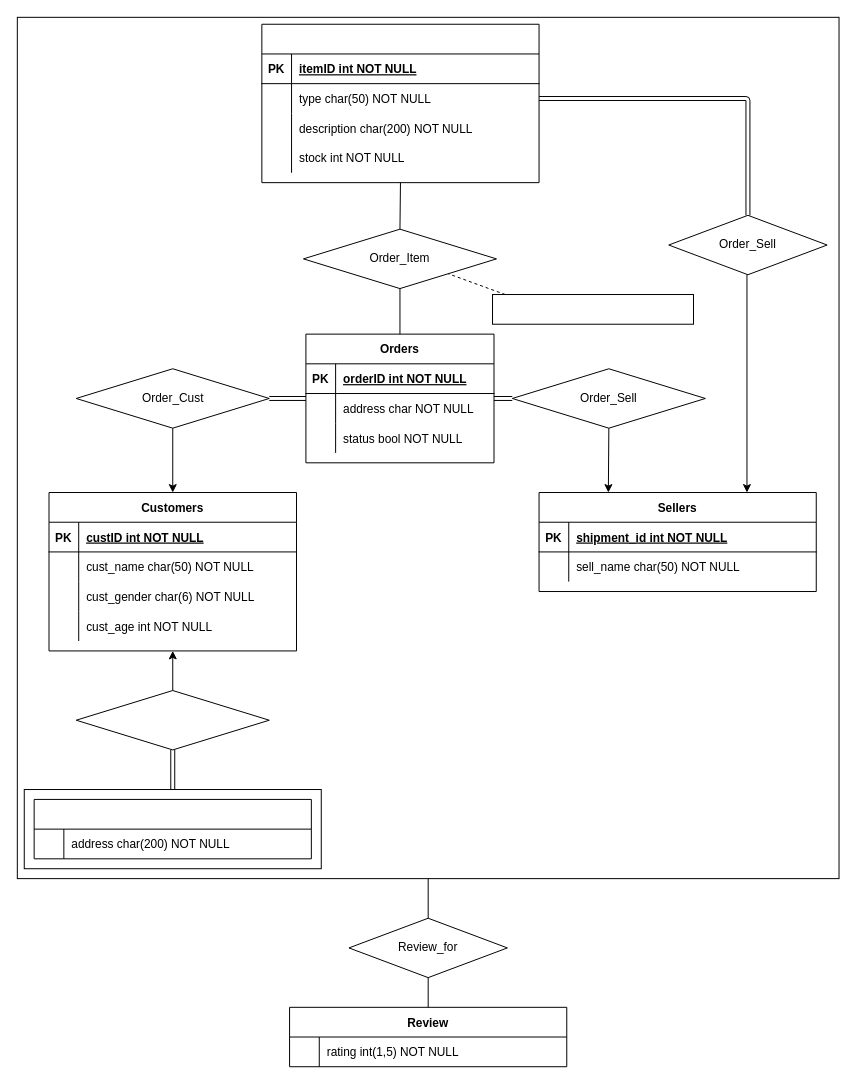
Some shapes in this 856 by 1084 pixel diagram are drawn without their labels. The box of each missing label's shape, as (x1, y1, x2, y2) in pixels:
Addresses: (33, 798, 311, 859)
Cust_Addr: (75, 690, 269, 750)
Items: (261, 23, 539, 183)
quantity int NOT NULL: (492, 294, 693, 324)
